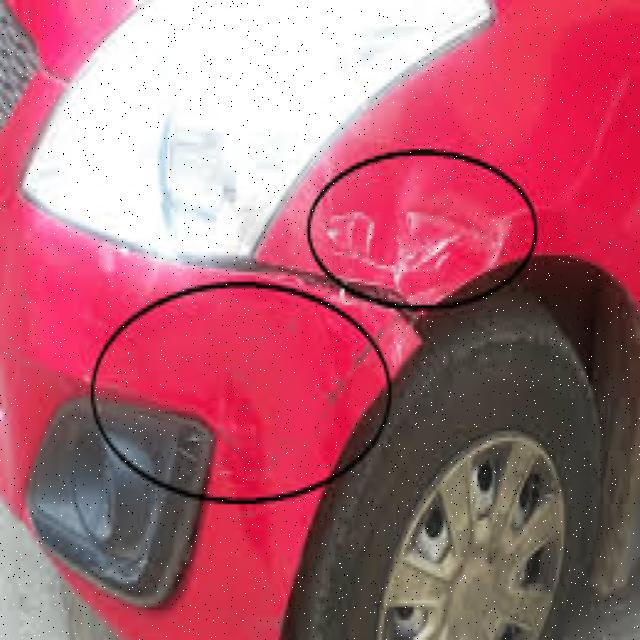fender-dent: (259, 70, 638, 392)
front-bumper-dent: (0, 249, 426, 637)
